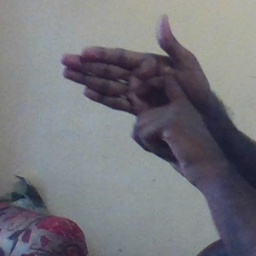R: (59, 11, 206, 161)
